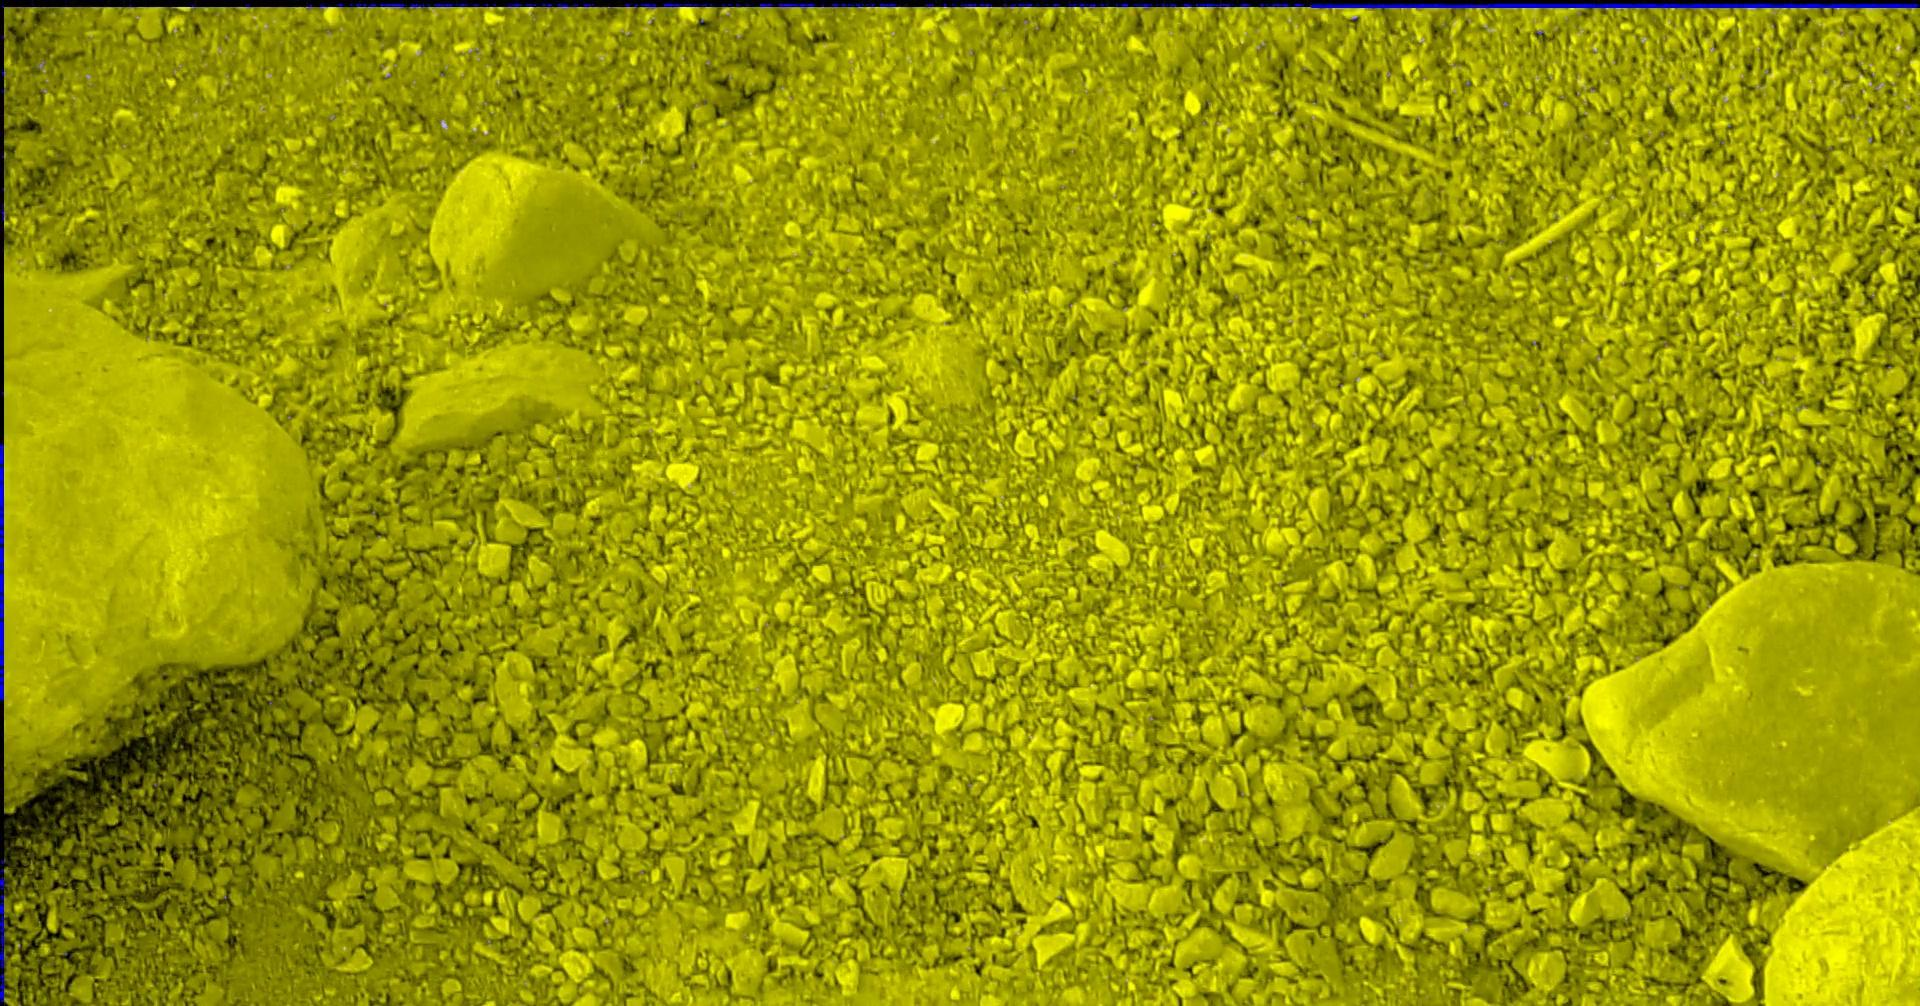ant: (1, 442, 5, 701), (347, 3, 480, 8), (1, 894, 6, 1002), (1116, 3, 1177, 8), (1183, 3, 1236, 8), (832, 3, 898, 6), (664, 3, 714, 8), (1261, 3, 1305, 8), (759, 3, 817, 6), (1069, 3, 1110, 8), (943, 3, 993, 6), (625, 3, 658, 8), (1, 857, 6, 889), (1004, 3, 1041, 6), (543, 3, 579, 6)
